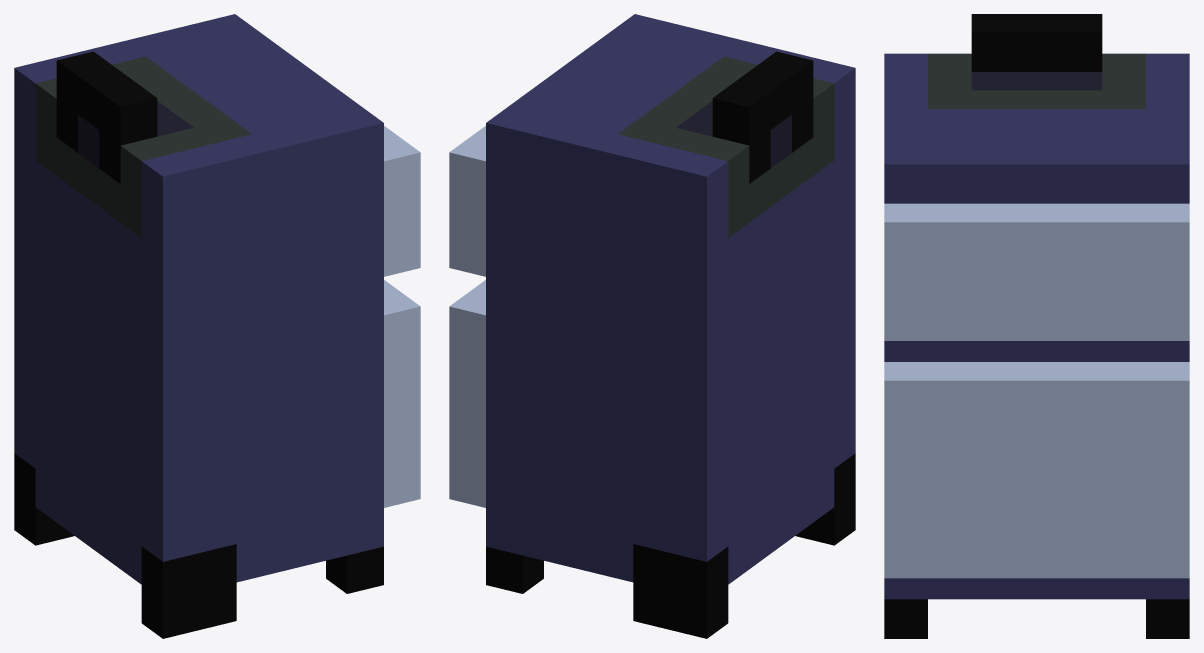
File: suitcase_0.gltf
3 renders of one model, left to right at view 1: azimuth 30°, elevation 25°; view 2: azimuth 150°, elevation 25°; view 3: azimuth 270°, elevation 25°, orthographic. The views are drawn at different scales.
Visible parts, largest first — view 1: Layer.1; view 2: Layer.1; view 3: Layer.1.
Part boxes in pixels (x1,y1,x2,y2): Layer.1: (14,14,420,638); Layer.1: (449,14,855,638); Layer.1: (884,14,1189,638).
Size of the model in its own units: 7 by 13 by 7.
